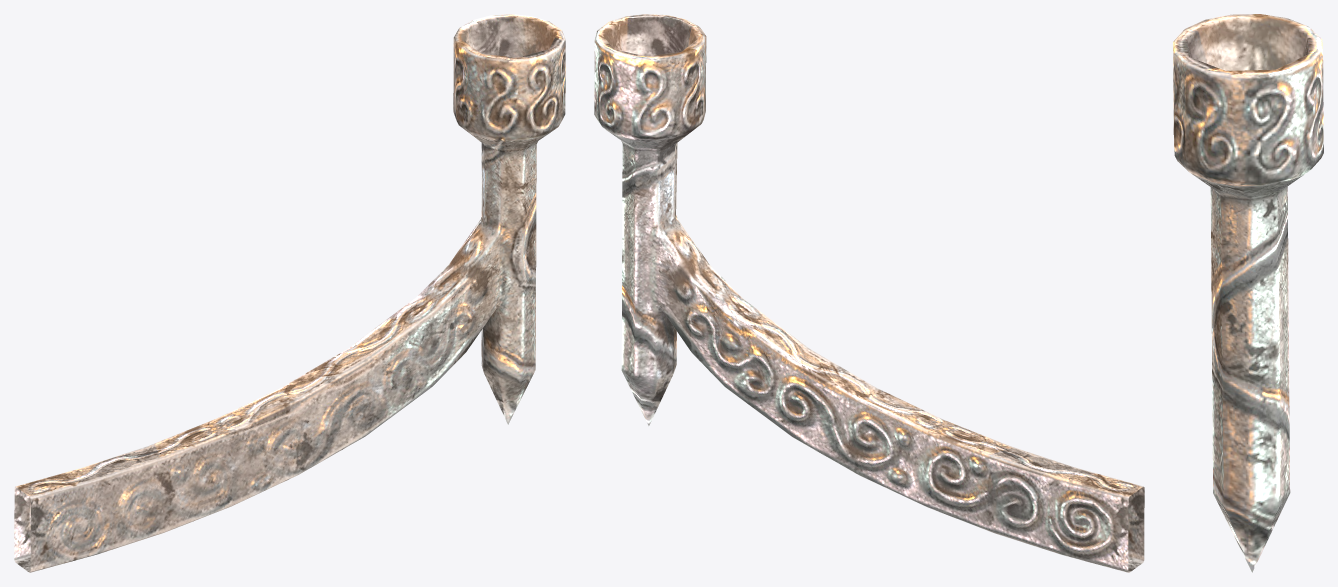
The model's file is candle_holder.gltf.
The picture shows the model from 3 angles, left to right: view 1: azimuth 30°, elevation 25°; view 2: azimuth 150°, elevation 25°; view 3: azimuth 270°, elevation 25°; orthographic projection. The views are drawn at different scales.
Parts seen in each view (by area): view 1: Candle Holder LP; view 2: Candle Holder LP; view 3: Candle Holder LP.
Part boxes in pixels (<box>): Candle Holder LP: <box>14,14,565,572</box>; Candle Holder LP: <box>594,14,1144,572</box>; Candle Holder LP: <box>1173,14,1323,572</box>.
Size of the model in its own units: 0.2473 by 0.1825 by 0.0445.
1 material, 1 textured.
